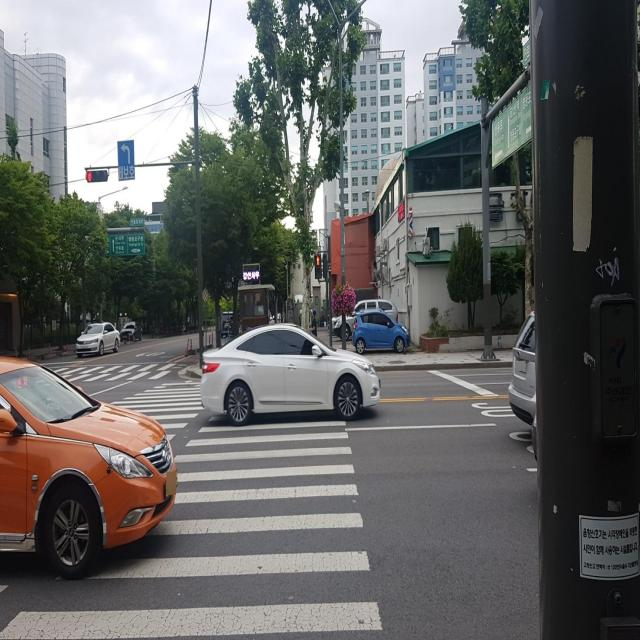빨간불: (314, 253, 328, 280)
횡단보도: (0, 380, 381, 640), (25, 361, 180, 382)
